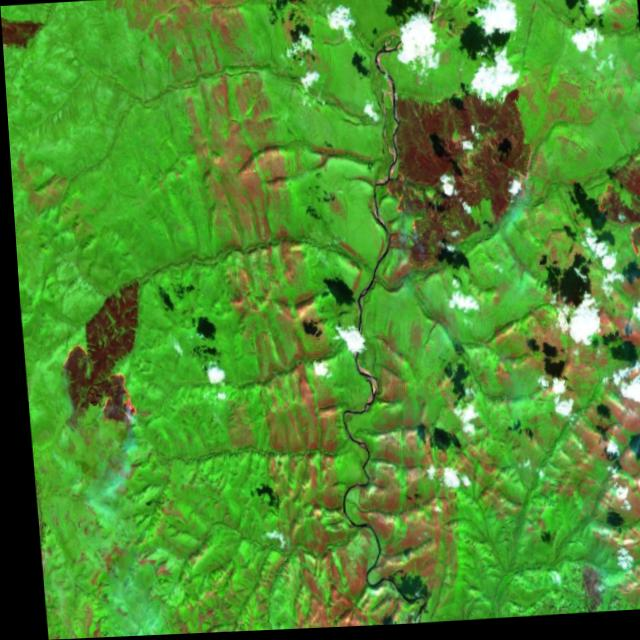fire: (361, 151, 447, 300), (506, 139, 541, 218)
